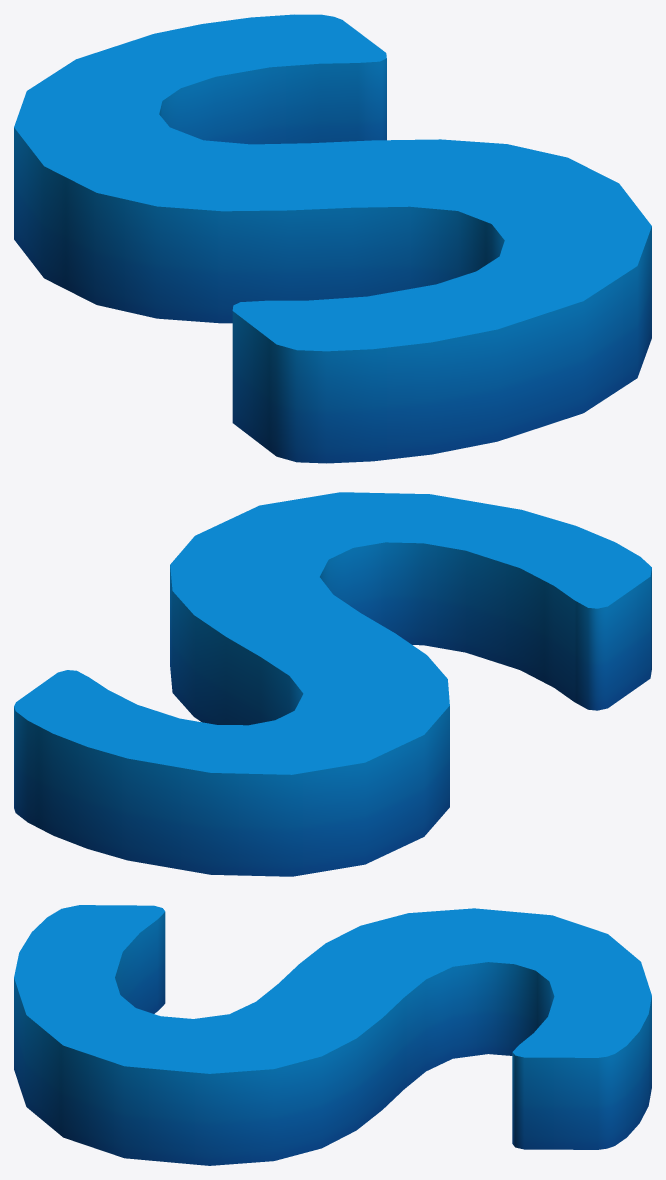
The model's file is letter_S.fbx.
3 renders of one model, top to bottom at view 1: azimuth 30°, elevation 25°; view 2: azimuth 150°, elevation 25°; view 3: azimuth 270°, elevation 25°, orthographic. The views are drawn at different scales.
Parts seen in each view (by area): view 1: letter_S; view 2: letter_S; view 3: letter_S.
Boxes of the visible parts, x1,y1,x2,y2 form: letter_S: (14,14,651,463); letter_S: (14,492,651,876); letter_S: (14,905,651,1165).
Size of the model in its own units: 14.76 by 3.75 by 23.57.
